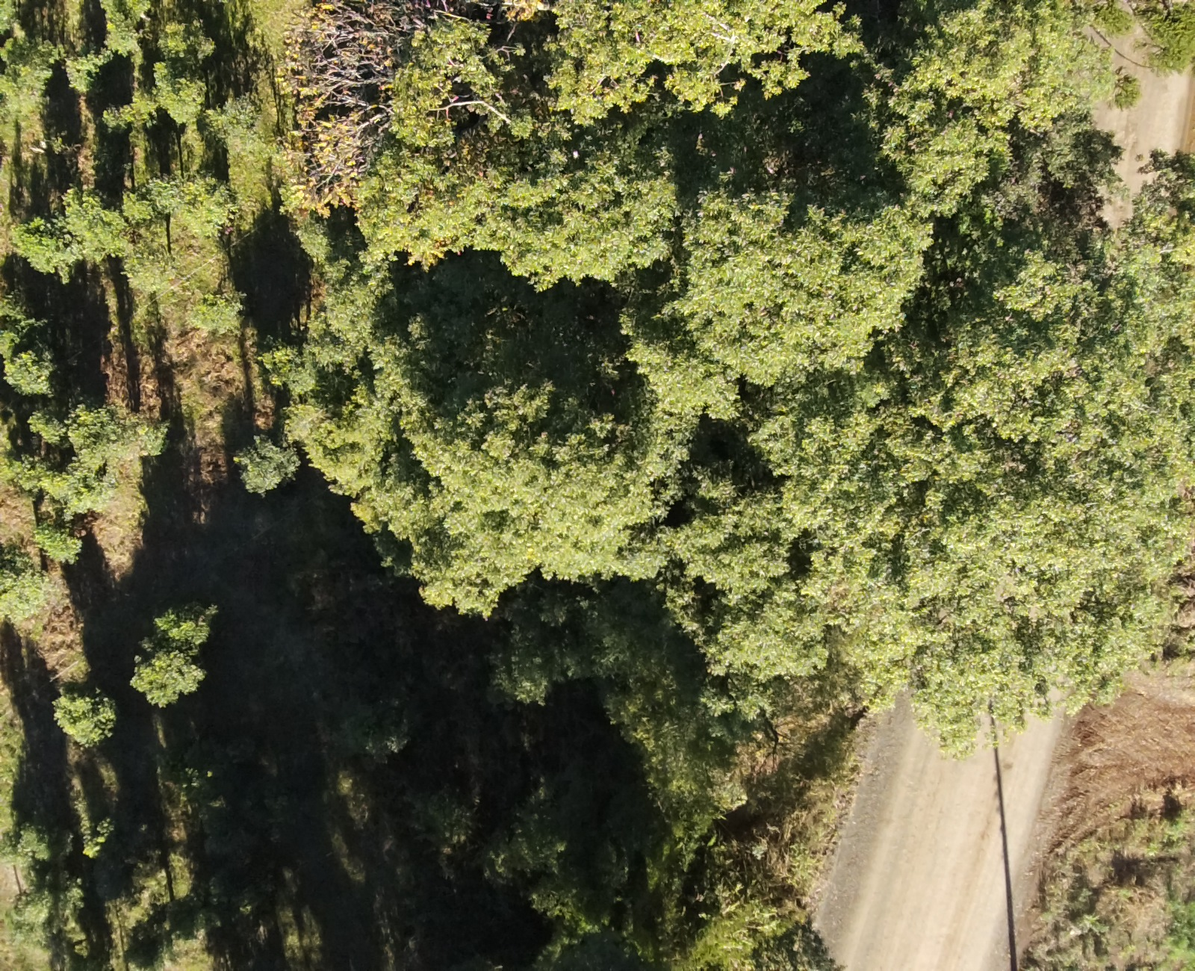erva: (60, 377, 154, 474), (50, 177, 120, 288), (140, 158, 240, 234), (134, 642, 226, 720), (1, 205, 76, 296), (0, 24, 66, 118), (226, 427, 304, 503), (46, 675, 120, 751), (170, 273, 247, 344), (142, 59, 214, 134), (150, 587, 229, 651), (39, 465, 122, 523), (90, 9, 162, 69), (24, 510, 86, 576), (0, 565, 59, 627), (0, 333, 55, 397), (117, 239, 171, 296), (114, 157, 155, 229), (24, 391, 68, 448), (5, 444, 44, 506)
